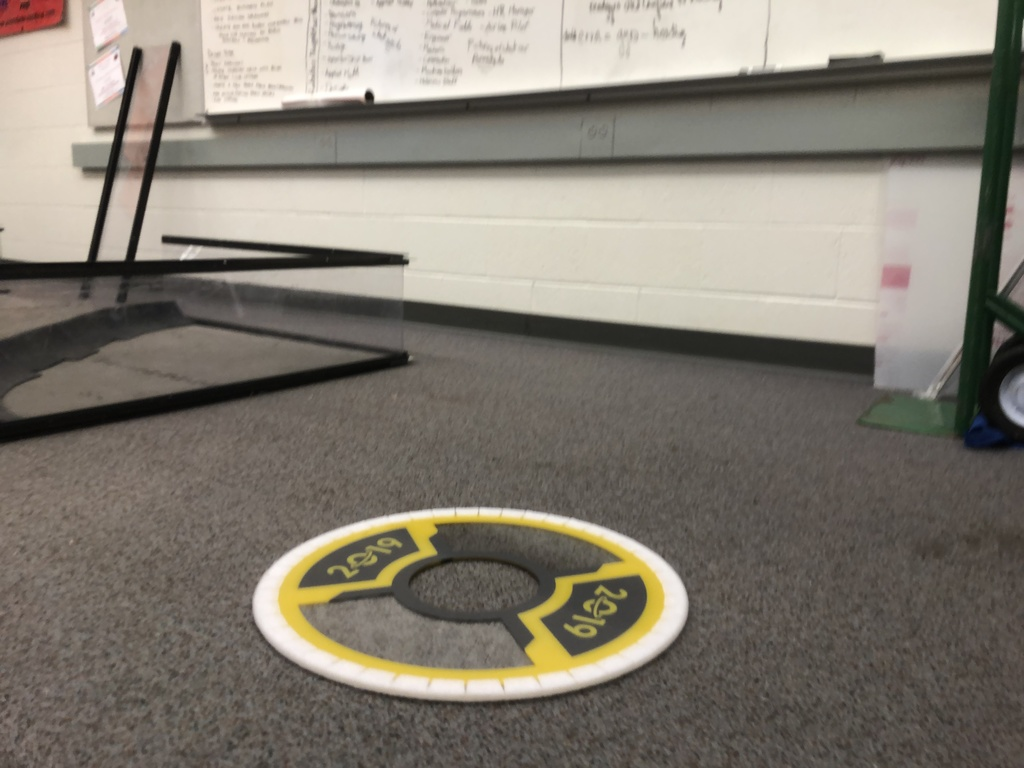hatch_panel: (228, 491, 707, 709)
